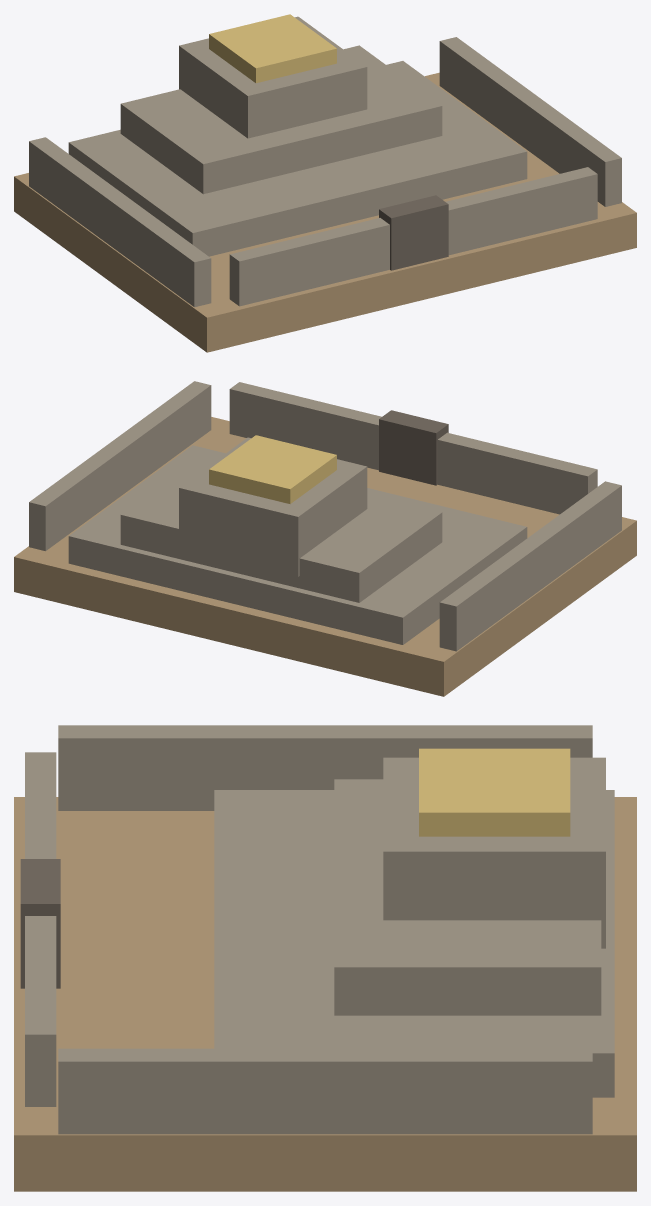
Rendered from cusco_inca_lod1.glb.
3 renders of one model, top to bottom at view 1: azimuth 30°, elevation 25°; view 2: azimuth 150°, elevation 25°; view 3: azimuth 270°, elevation 25°, orthographic. The views are drawn at different scales.
Parts seen in each view (by area): view 1: cusco_inca; view 2: cusco_inca; view 3: cusco_inca.
Part boxes in pixels (x1,y1,x2,y2): cusco_inca: (14, 14, 636, 352); cusco_inca: (14, 381, 636, 696); cusco_inca: (14, 725, 636, 1191).
Bounding box in the file's own units: 18 × 6 × 14.
